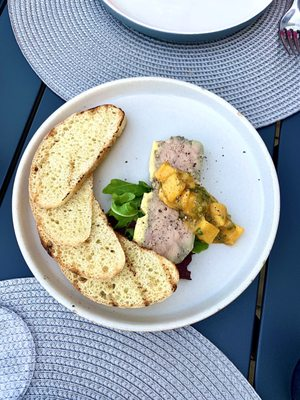sushi: (4, 77, 283, 335), (98, 0, 275, 44)
